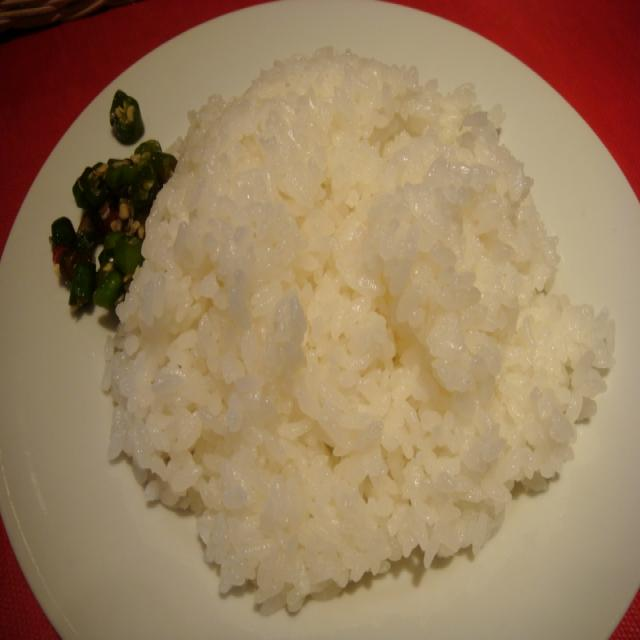nasi: (108, 49, 616, 615)
